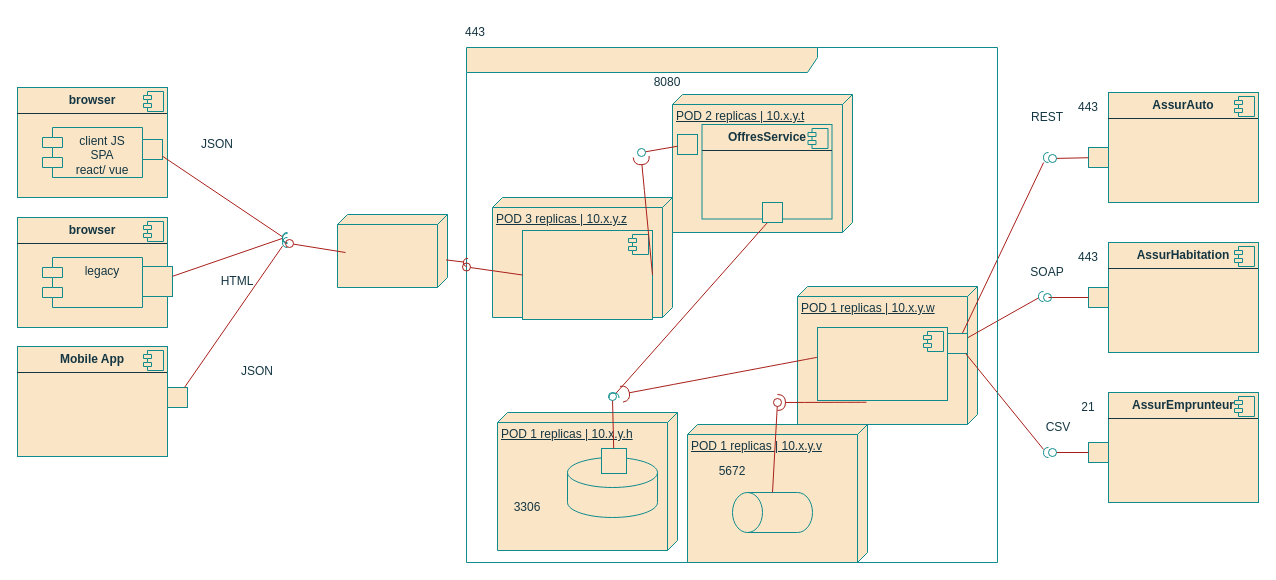
This 1276x580 diagram has some shape labels left out. The box of each missing label's shape, as (x1, y1, x2, y2) in pixels:
cluster k8s 1 master et 3 workers: (466, 46, 998, 562)
ETL: (816, 326, 948, 400)
LoadBalancer: (336, 214, 448, 288)
Passerelle API: (522, 230, 652, 320)
